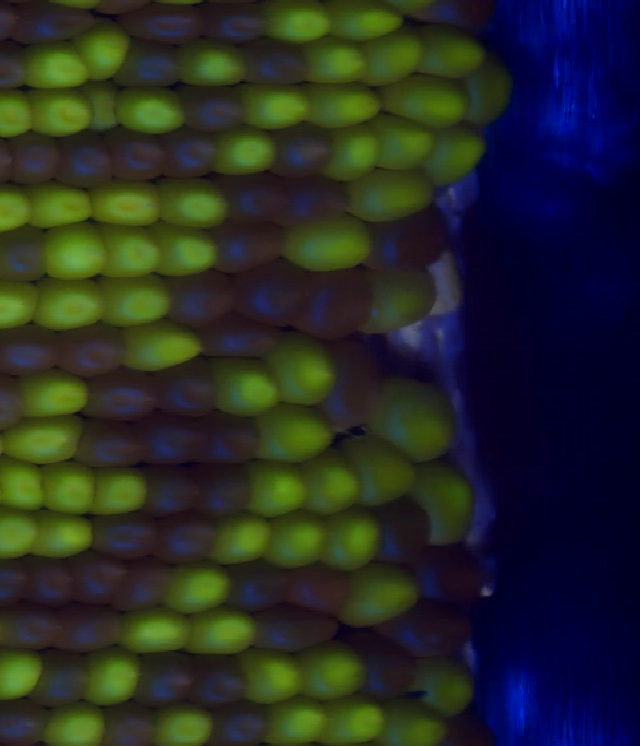fluorescent: (372, 381, 456, 464), (353, 265, 445, 336), (414, 466, 477, 552), (268, 333, 339, 406), (279, 219, 378, 271), (349, 167, 436, 226), (375, 72, 468, 125), (343, 435, 417, 501), (210, 356, 285, 420), (340, 567, 420, 626), (294, 643, 370, 699), (305, 449, 367, 517), (256, 407, 335, 460), (118, 322, 203, 371), (320, 511, 388, 571), (154, 177, 232, 229), (423, 117, 486, 181), (365, 113, 434, 171), (236, 646, 305, 704), (265, 514, 336, 570), (411, 658, 478, 716), (416, 23, 486, 78), (102, 274, 175, 326), (99, 219, 165, 276), (2, 416, 85, 461), (246, 460, 308, 520), (156, 220, 224, 274), (14, 371, 93, 417), (25, 90, 99, 139), (43, 225, 110, 278), (29, 510, 101, 559), (93, 465, 157, 520), (113, 610, 198, 651), (39, 276, 106, 328), (211, 515, 277, 567), (83, 650, 141, 709), (40, 460, 100, 517), (117, 87, 188, 135), (180, 41, 250, 89), (264, 699, 334, 746), (459, 60, 512, 122), (362, 29, 422, 83), (163, 564, 233, 610), (21, 46, 94, 90), (303, 83, 381, 124), (326, 121, 378, 182), (92, 181, 164, 225), (323, 697, 387, 746), (303, 40, 372, 85), (328, 3, 409, 40), (31, 185, 95, 231), (245, 86, 310, 131), (191, 610, 259, 653), (42, 705, 115, 745), (384, 702, 450, 746), (81, 21, 131, 79), (265, 1, 334, 43), (219, 129, 279, 177), (149, 707, 220, 746), (0, 459, 49, 512), (79, 77, 123, 132), (0, 650, 45, 702), (0, 281, 44, 330), (0, 509, 43, 559), (0, 88, 38, 139), (0, 185, 38, 232), (390, 1, 437, 15), (51, 1, 105, 4)
nonfluorescent: (298, 268, 371, 334), (326, 341, 380, 427), (348, 630, 418, 696), (251, 605, 343, 655), (234, 261, 309, 321), (369, 498, 435, 566), (373, 214, 450, 272), (388, 603, 473, 655), (205, 222, 291, 269), (82, 371, 160, 421), (111, 4, 211, 42), (166, 271, 235, 326), (77, 420, 148, 472), (57, 602, 130, 651), (281, 172, 348, 225), (58, 129, 119, 187), (194, 317, 284, 356), (193, 461, 254, 518), (106, 556, 170, 610), (182, 652, 248, 704), (59, 325, 126, 376), (240, 40, 309, 89), (141, 418, 210, 467), (30, 655, 96, 706), (64, 550, 128, 602), (132, 655, 196, 707), (153, 513, 218, 564), (87, 513, 160, 558), (281, 563, 352, 609), (155, 363, 219, 414), (423, 554, 488, 604), (144, 461, 203, 516), (177, 83, 246, 130), (221, 171, 288, 218), (221, 561, 288, 608), (0, 603, 64, 652), (201, 411, 261, 463), (20, 551, 78, 604), (197, 1, 270, 43), (106, 127, 163, 180), (115, 39, 176, 88), (401, 1, 491, 34), (6, 130, 61, 183), (269, 126, 331, 173), (9, 4, 90, 39), (0, 697, 57, 746), (0, 325, 62, 370), (95, 702, 158, 746), (206, 703, 270, 746), (0, 224, 47, 282), (158, 129, 215, 174), (438, 710, 497, 746), (0, 558, 30, 607), (101, 1, 147, 16)
